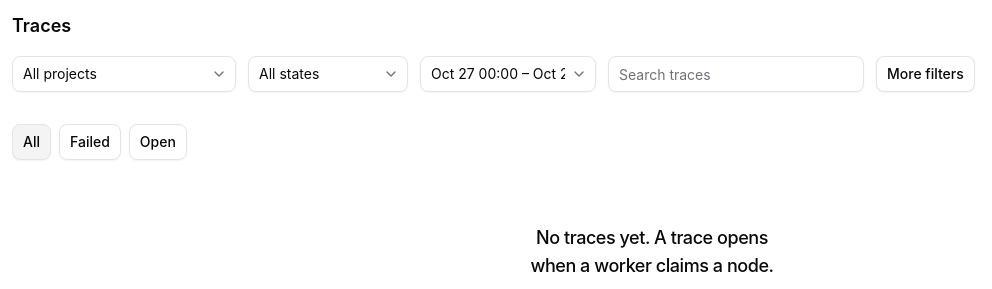
TracesScreen › offers the window first and removes it when another range is chosen
Click the dropdown named "Time range" at (508, 74), box [420,56,596,92]
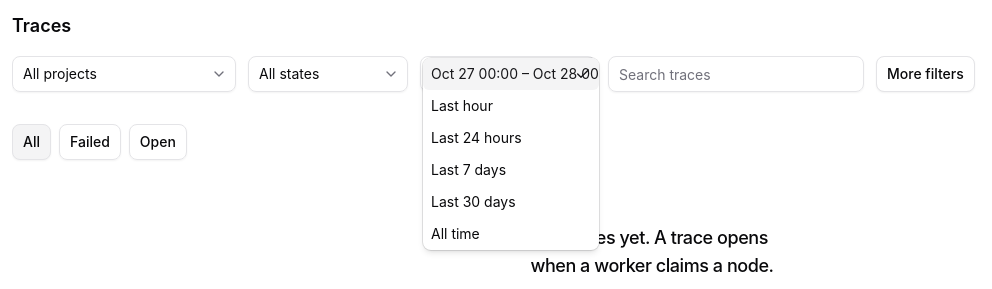
Expected: the option "Oct 27 00:00 – Oct 28 00:00 UTC" is shown, [423,58,599,90]
Expected: the number of options is 6
Click the option "Last 30 days" at (473, 202), box [431,193,516,210]
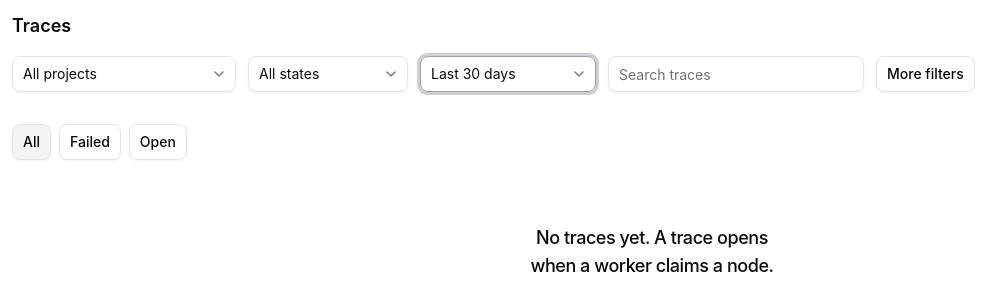
Expected: the dropdown named "Time range" shows "Last 30 days", [420,56,596,92]
